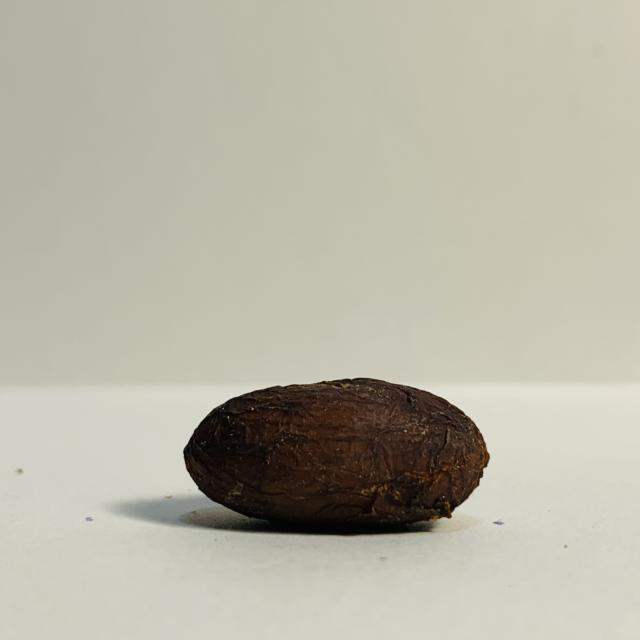Fine_cocoabeans: (101, 362, 525, 557)
